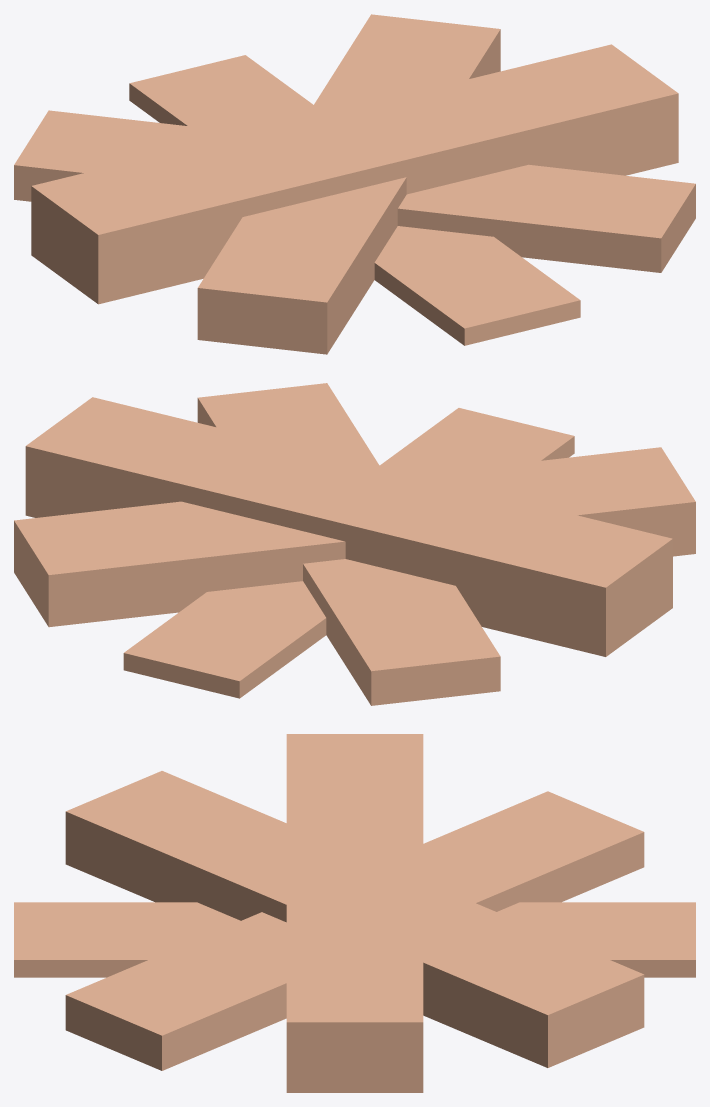
File: campfire_planks.glb
3 views of the same model, one above another, from view 1: azimuth 30°, elevation 25°; view 2: azimuth 150°, elevation 25°; view 3: azimuth 270°, elevation 25° (orthographic).
Parts seen in each view (by area): view 1: campfire_planks; view 2: campfire_planks; view 3: campfire_planks.
Boxes of the visible parts, x1,y1,x2,y2 form: campfire_planks: (14,14,695,354); campfire_planks: (14,383,695,705); campfire_planks: (14,734,695,1092).
Bounding box in the file's own units: 0.35 × 0.04 × 0.35.
